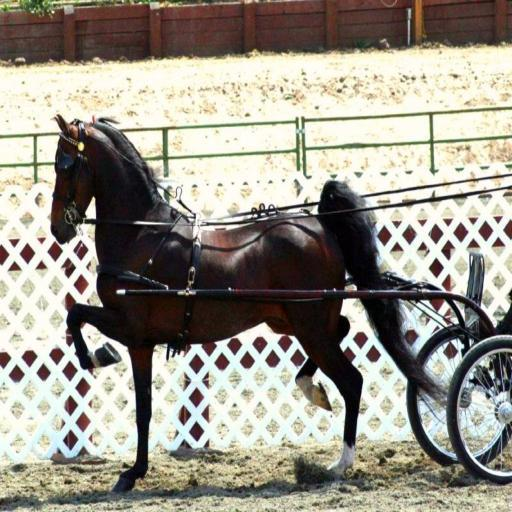Horse: (47, 112, 453, 494)
